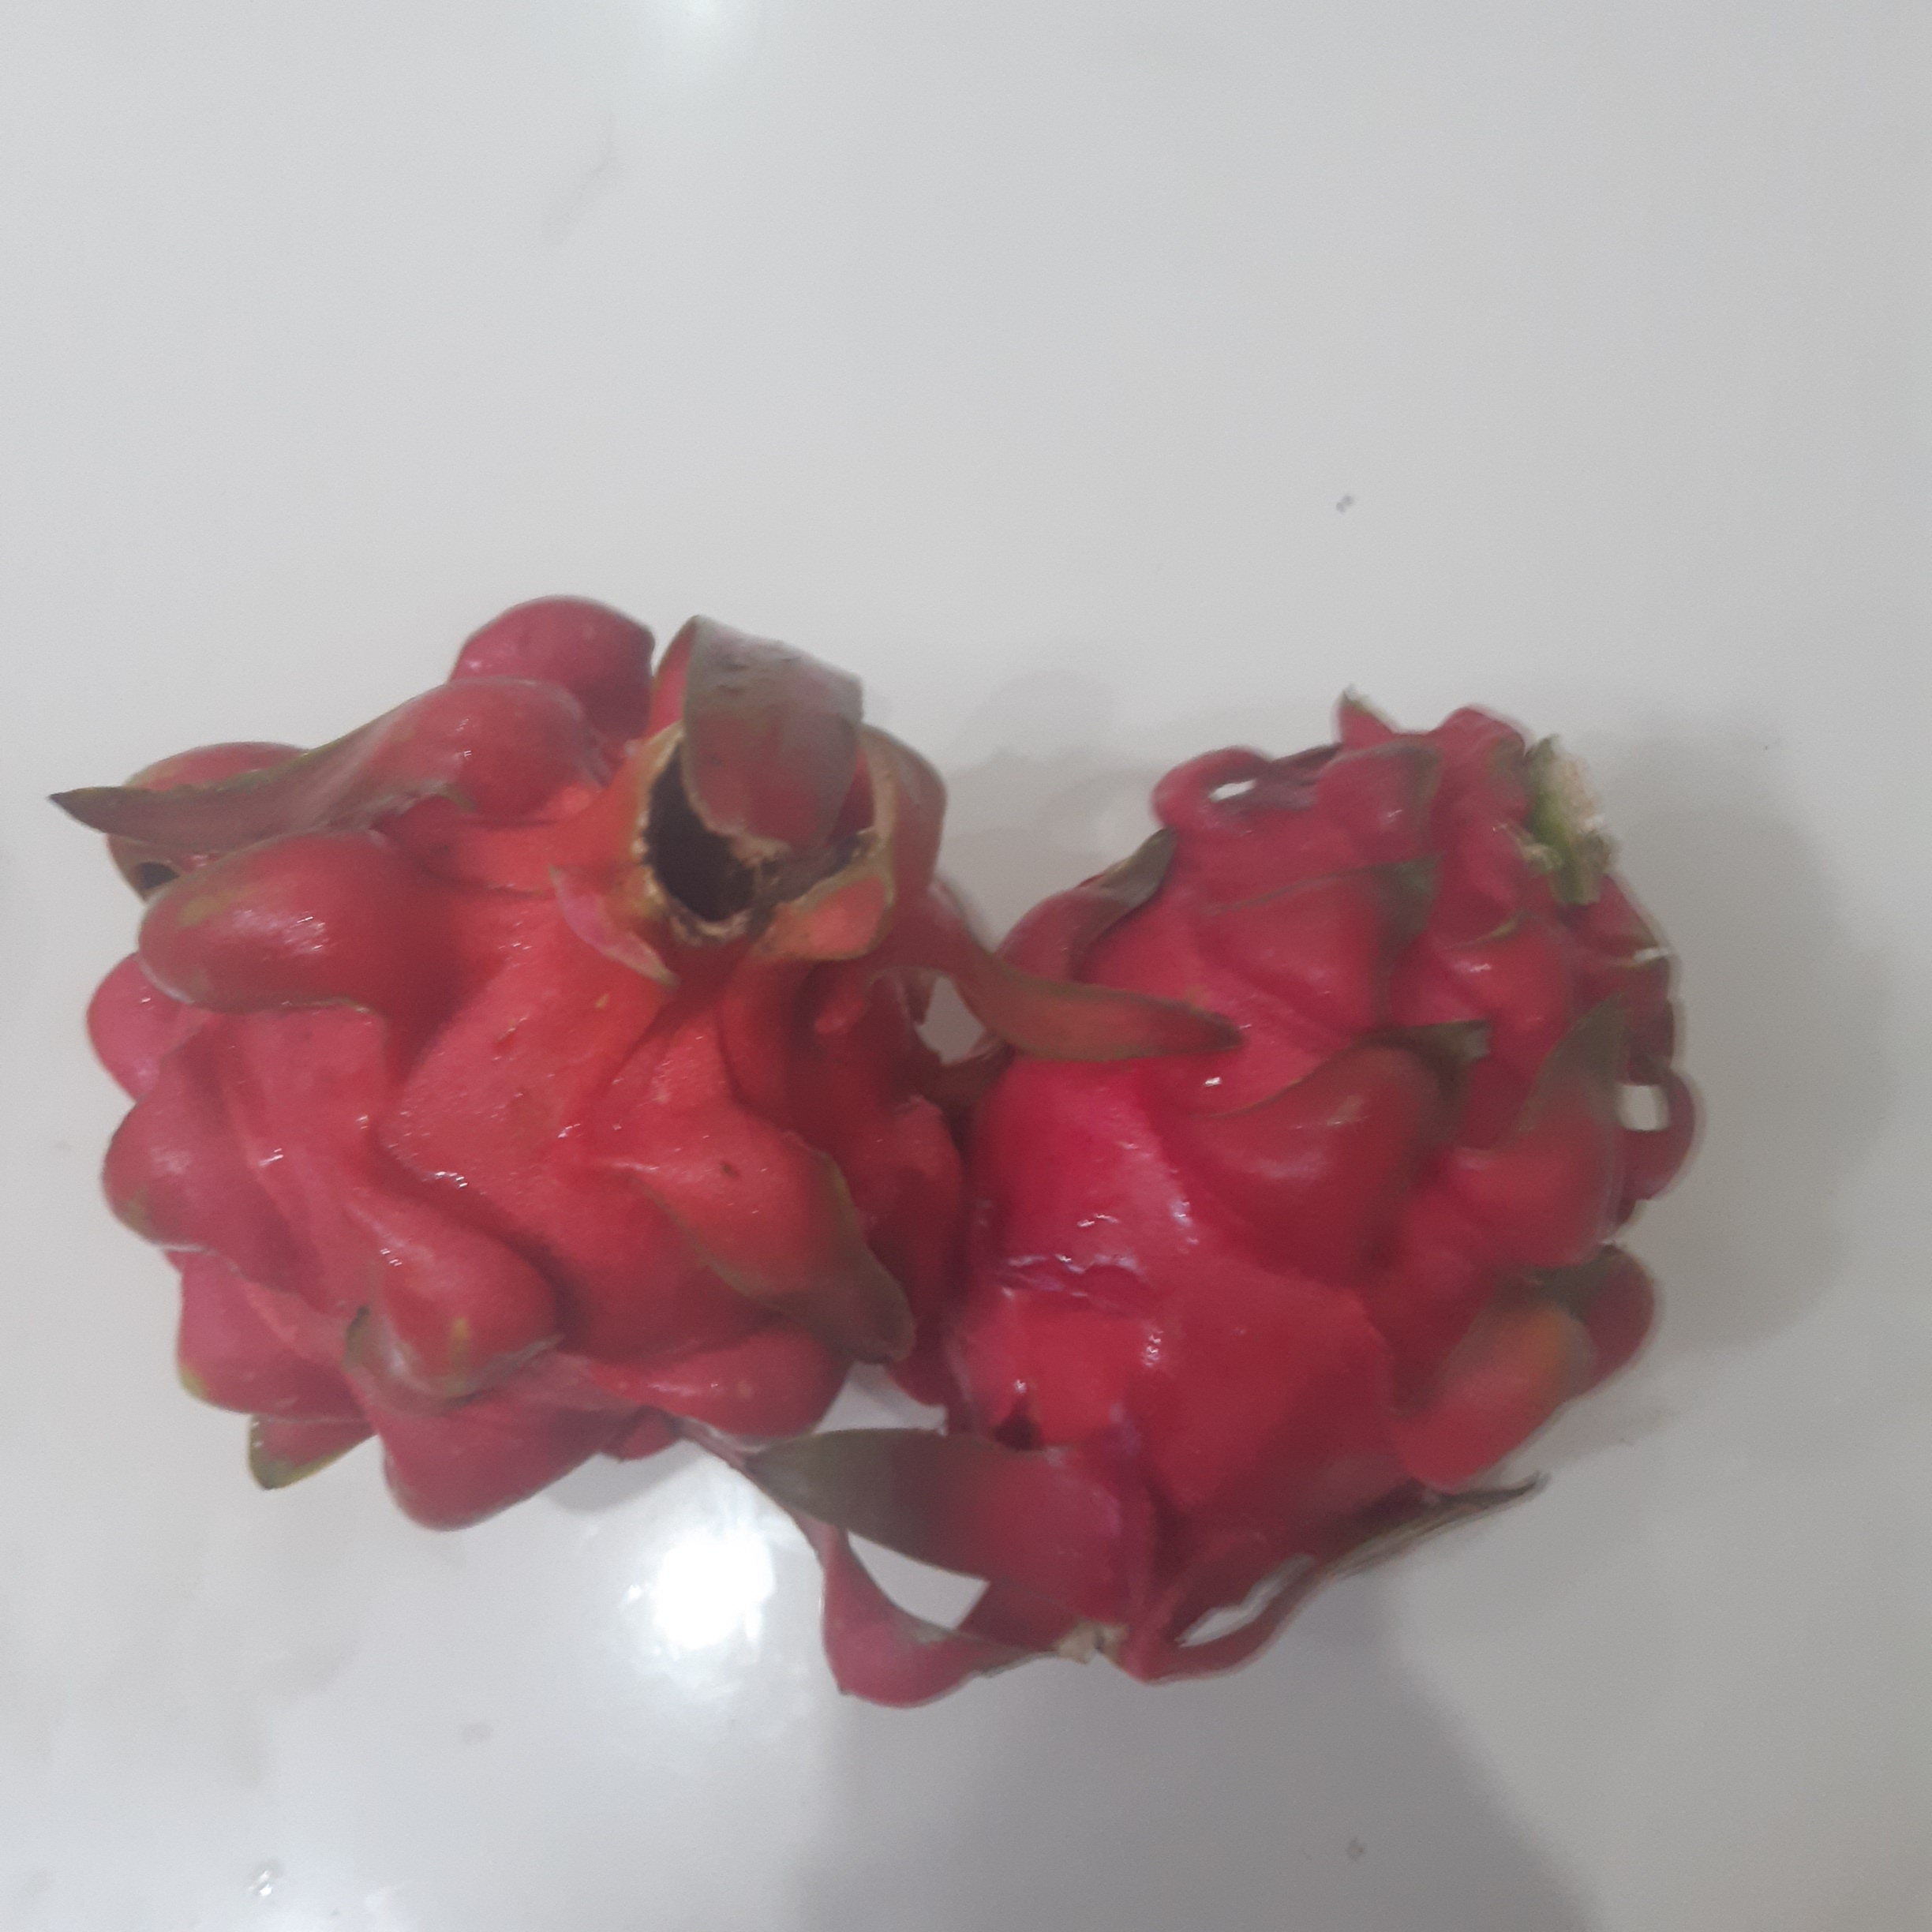Thanh long: (919, 724, 1704, 1654), (114, 662, 954, 1514)
